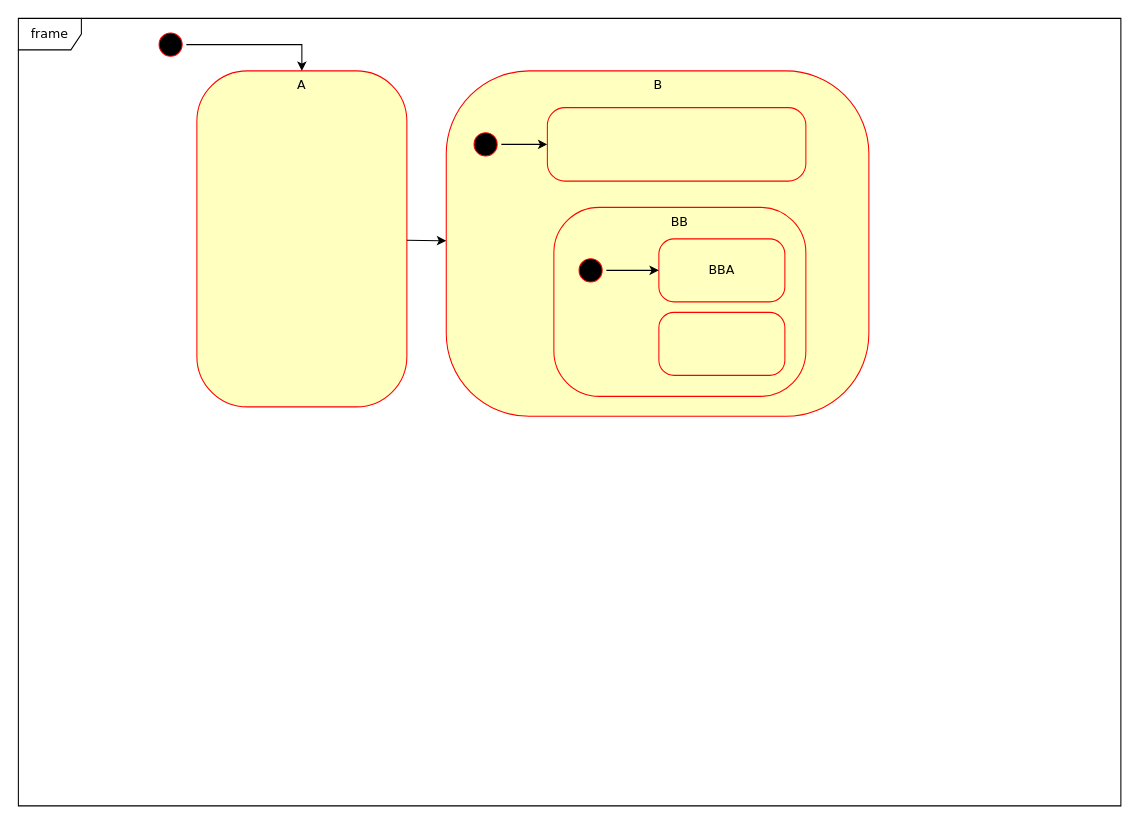
Image size: 1139x824. Some labels were removed from this diagram. Here are the shapes that lost their labels. From the top down, the centre of each, then its label:
At point (676, 144): "BA".
At point (721, 343): "BBB".
